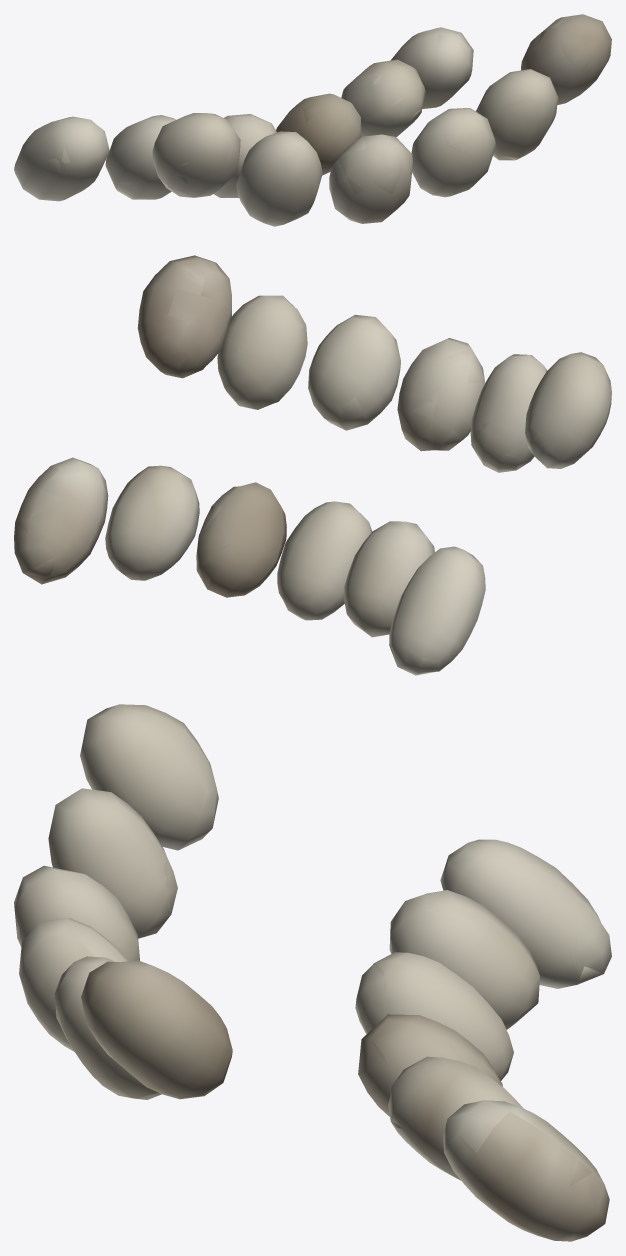
Rendered from Teeth Incisor.fbx.
The picture shows the model from 3 angles, top to bottom: view 1: azimuth 30°, elevation 25°; view 2: azimuth 150°, elevation 25°; view 3: azimuth 270°, elevation 25°; orthographic projection. The views are drawn at different scales.
Visible parts, largest first — view 1: Teeth Incisor, Teeth Incisor low; view 2: Teeth Incisor, Teeth Incisor low; view 3: Teeth Incisor, Teeth Incisor low.
Boxes of the visible parts, box(x1,y1,x2,y2) form: Teeth Incisor: box(14, 14, 611, 226); Teeth Incisor low: box(19, 17, 591, 216); Teeth Incisor: box(14, 255, 611, 675); Teeth Incisor low: box(15, 271, 591, 672); Teeth Incisor: box(14, 704, 611, 1241); Teeth Incisor low: box(14, 718, 603, 1186).
Size of the model in its own units: 0.782 by 0.3407 by 0.633.
Materials: 1 (1 with a texture image).
